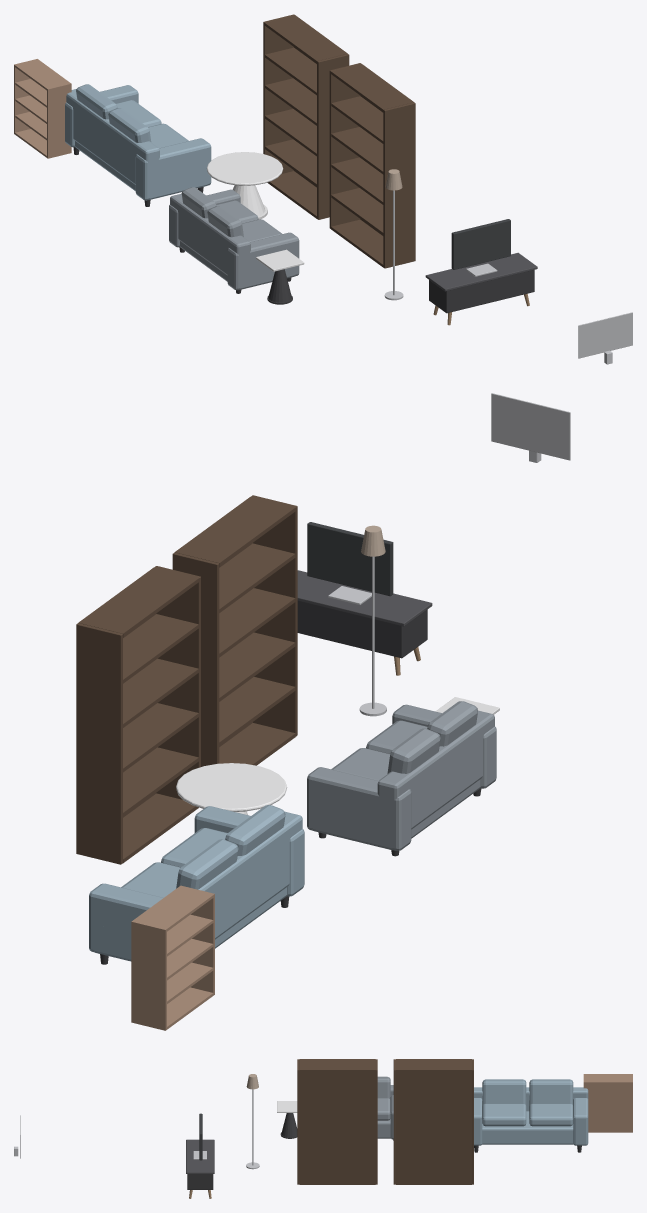
Rendered from agent_scene.glb.
3 renders of one model, top to bottom at view 1: azimuth 30°, elevation 25°; view 2: azimuth 150°, elevation 25°; view 3: azimuth 270°, elevation 25°, orthographic. The views are drawn at different scales.
Visible parts, largest first — view 1: bc_side.003, sfA_back, bc_side.002, sfB_back, sfA_arm, bench, bc_side.001, sfB_arm, mon_scr, bc_side, tb_top, mon_front (+29 smaller); view 2: bc_side, sfB_arm.001, sfB_back, sfA_back, bc_side.003, bc_side.002, bc_side.001, mon_scr, tb_top, bench, mon_front, bc_top (+32 smaller); view 3: bc_back.001, bc_back, ts_back, sfA_base, sfA_backc, sfA_backc.001, sfA_seatc, sfA_seatc.001, bc_top.001, bc_top, benchtop, sfA_arm.001 (+13 smaller).
Part boxes in pixels (left/top/right/bottom): bc_side.003: left=383, top=102, right=415, bottom=268; sfA_back: left=66, top=89, right=159, bottom=191; bc_side.002: left=329, top=63, right=361, bottom=228; sfB_back: left=170, top=193, right=250, bottom=275; sfA_arm: left=135, top=138, right=211, bottom=200; bench: left=429, top=270, right=534, bottom=313; bc_side.001: left=317, top=54, right=349, bottom=219; sfB_arm: left=227, top=232, right=299, bottom=290; mon_scr: left=451, top=219, right=510, bottom=269; bc_side: left=263, top=14, right=294, bottom=173; tb_top: left=206, top=152, right=283, bottom=185; mon_front: left=578, top=312, right=632, bottom=358; bc_side: left=76, top=623, right=122, bottom=864; sfB_arm.001: left=307, top=767, right=411, bottom=850; sfB_back: left=377, top=710, right=494, bottom=829; sfA_back: left=198, top=811, right=302, bottom=939; bc_side.003: left=251, top=495, right=297, bottom=736; bc_side.002: left=172, top=552, right=219, bottom=766; bc_side.001: left=155, top=566, right=200, bottom=799; mon_scr: left=307, top=522, right=393, bottom=596; tb_top: left=176, top=763, right=287, bottom=811; bench: left=297, top=601, right=427, bottom=658; mon_front: left=491, top=393, right=570, bottom=460; bc_top: left=78, top=567, right=199, bottom=637; bc_back.001: left=299, top=1072, right=375, bottom=1182; bc_back: left=396, top=1072, right=471, bottom=1182; ts_back: left=585, top=1083, right=631, bottom=1131; sfA_base: left=482, top=1111, right=573, bottom=1144; sfA_backc: left=482, top=1079, right=526, bottom=1105; sfA_backc.001: left=529, top=1079, right=573, bottom=1105; sfA_seatc: left=482, top=1103, right=526, bottom=1126; sfA_seatc.001: left=529, top=1103, right=573, bottom=1126; bc_top.001: left=299, top=1059, right=375, bottom=1071; bc_top: left=396, top=1059, right=471, bottom=1071; benchtop: left=186, top=1139, right=214, bottom=1173; sfA_arm.001: left=573, top=1098, right=588, bottom=1145.
Size of the model in its own units: 2.99 by 2.05 by 10.02.
